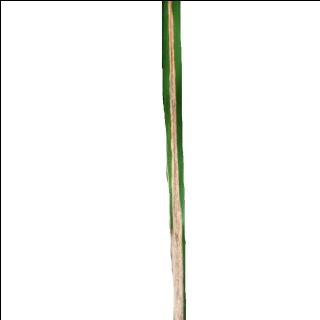Hawar-Daun: (153, 8, 194, 320)
